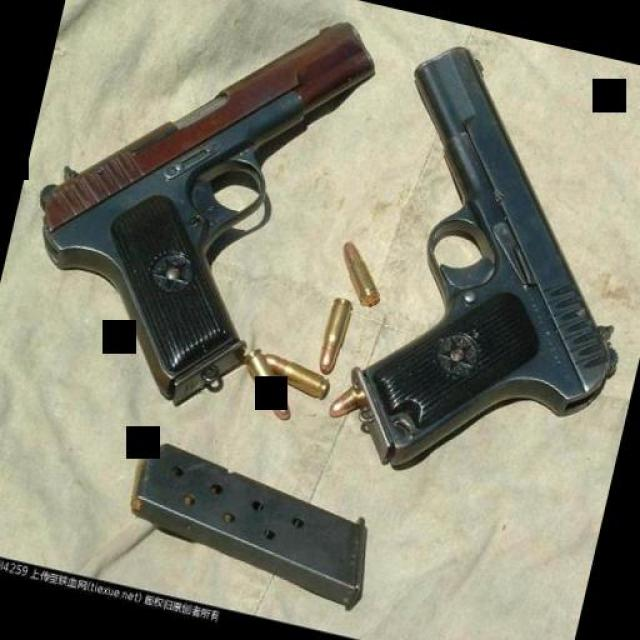gun: (0, 0, 388, 431), (321, 35, 640, 523)
